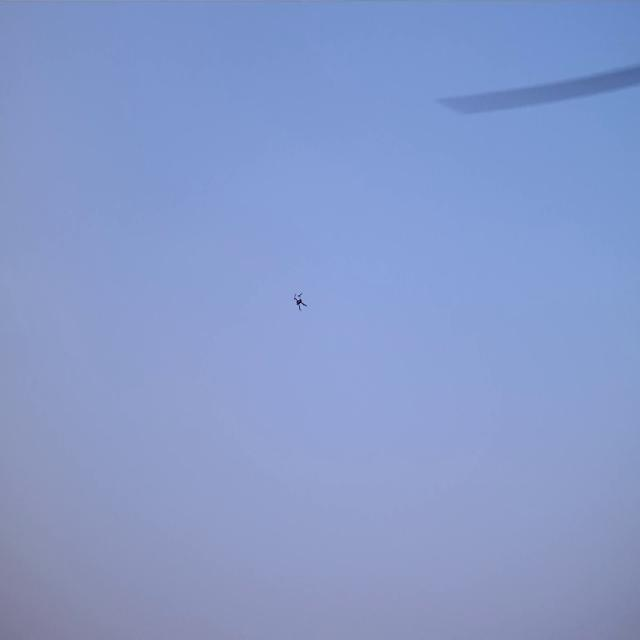UAV: (293, 290, 308, 310)
